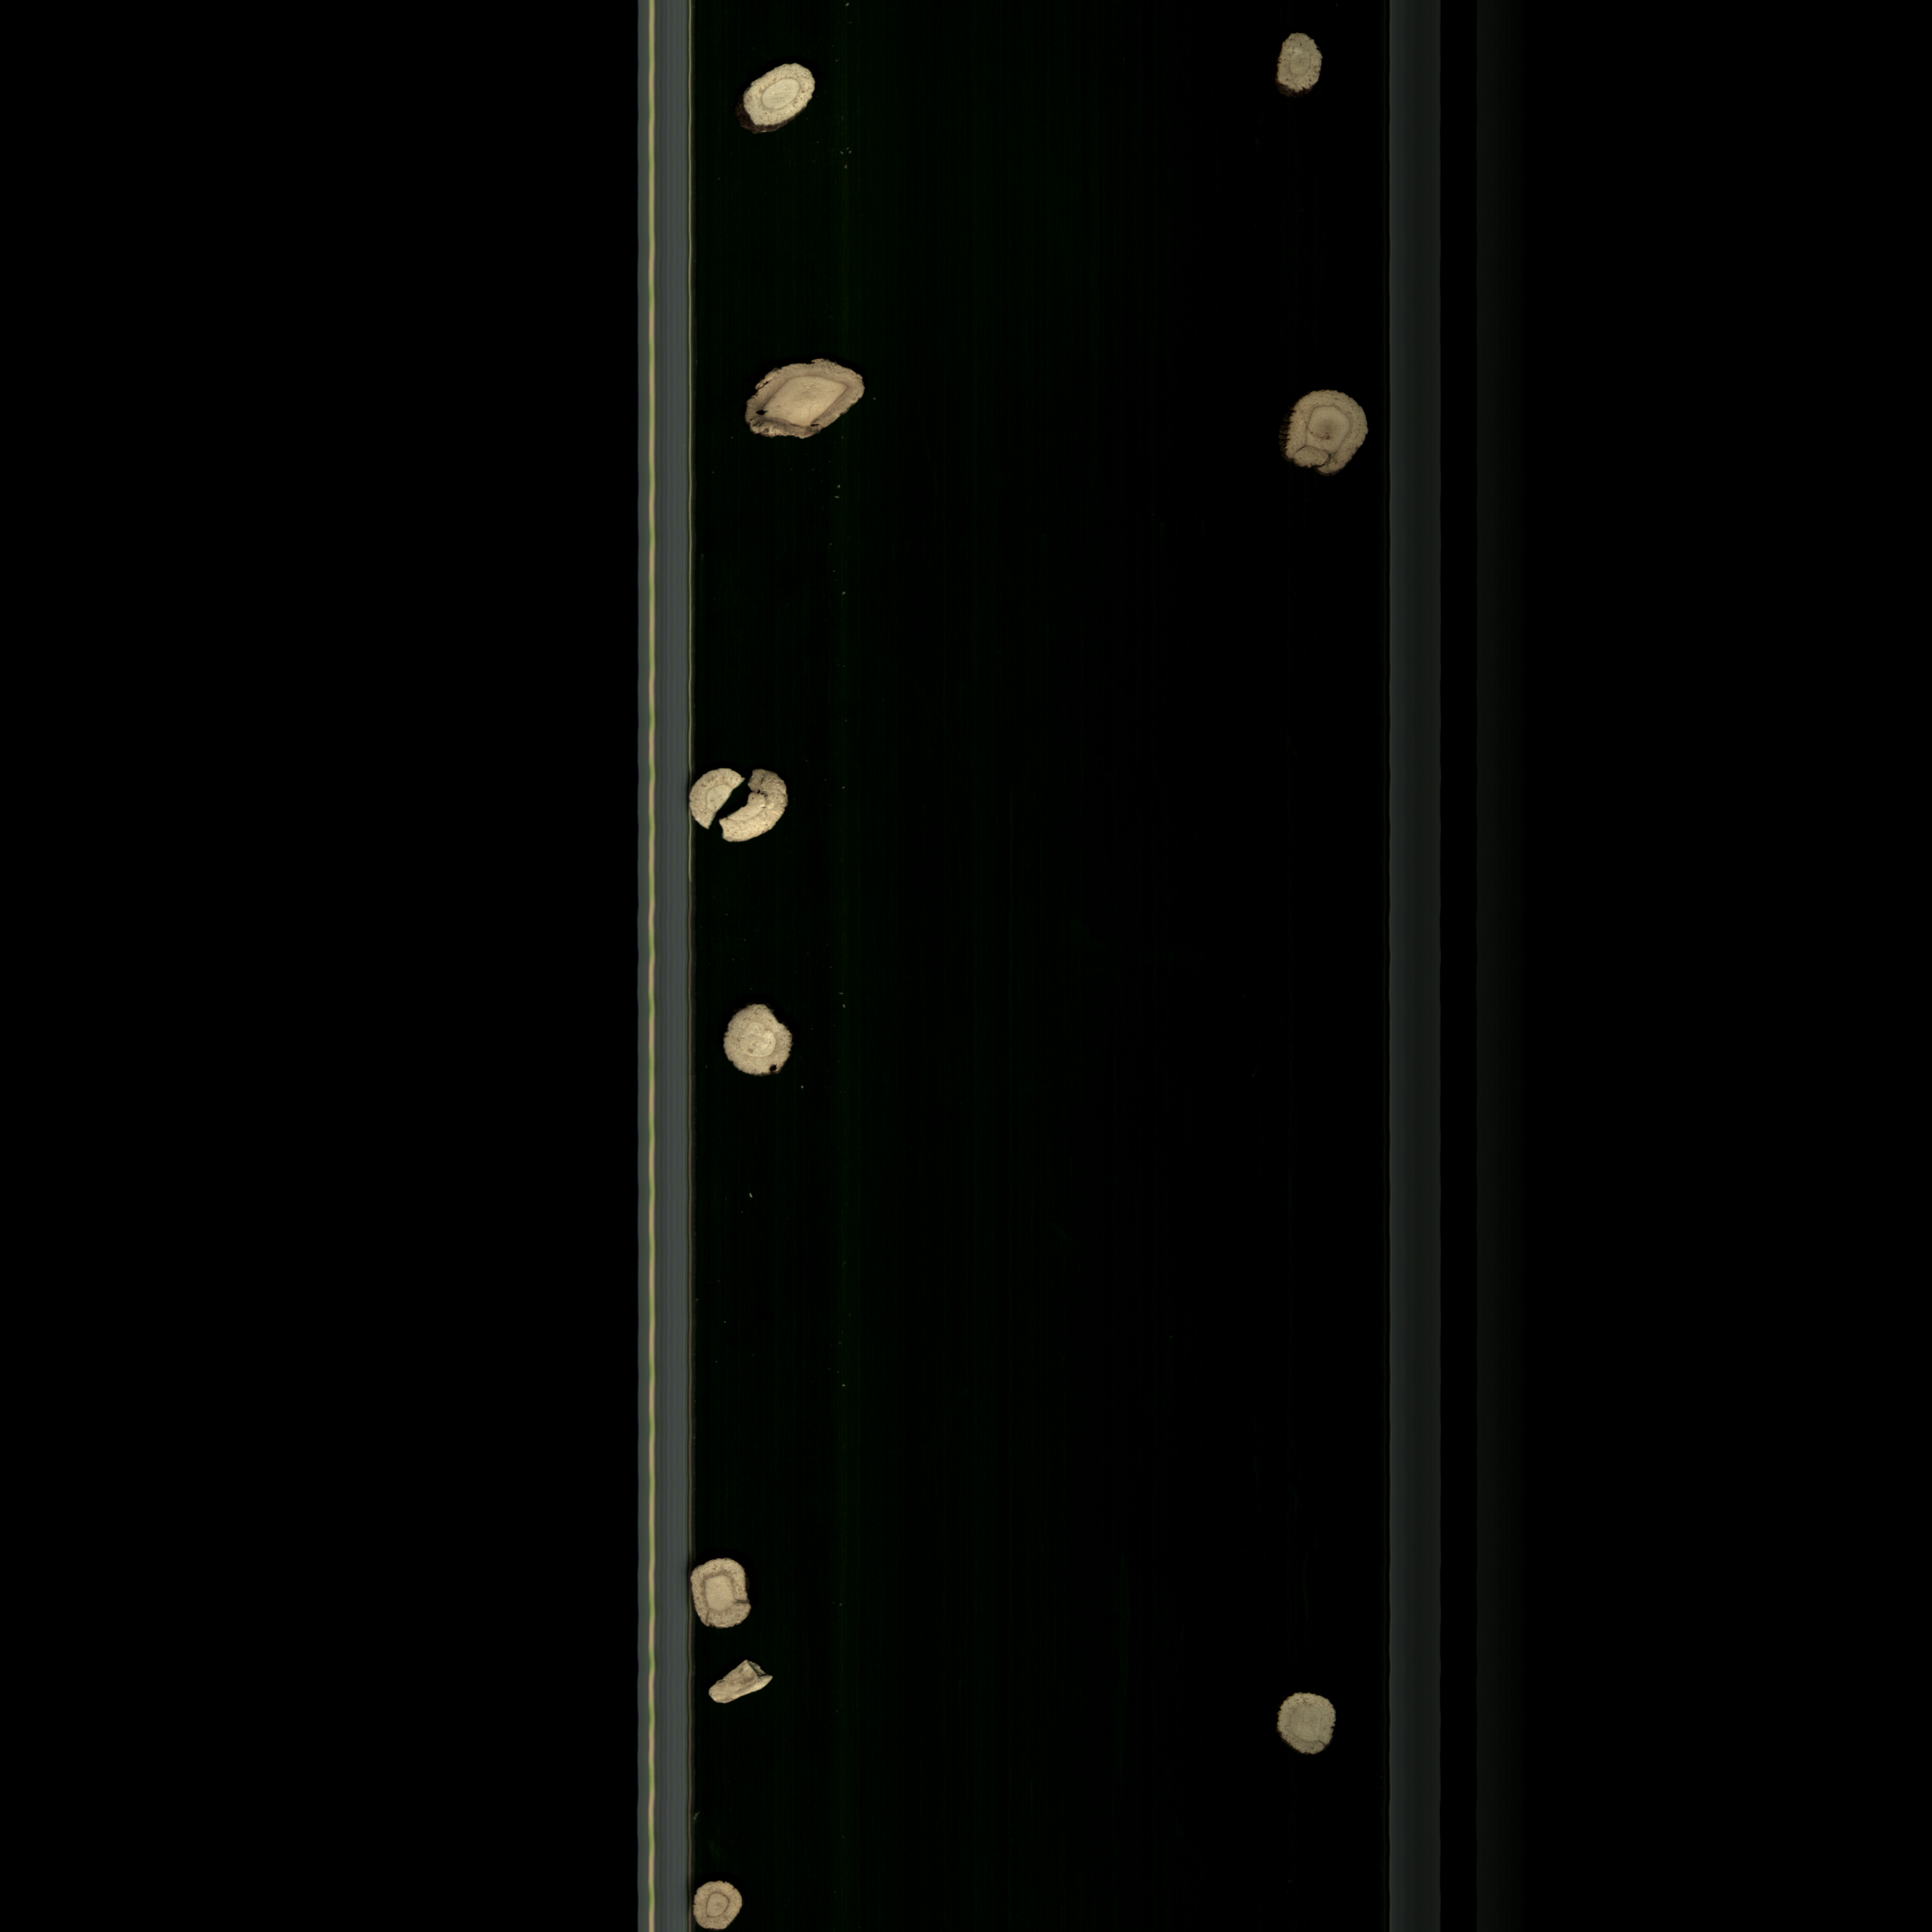debris: (715, 766, 800, 844), (676, 755, 741, 832)
dreg: (704, 1656, 794, 1709)
hole: (713, 994, 805, 1092)
moldy: (736, 354, 881, 453), (1281, 384, 1380, 488)
